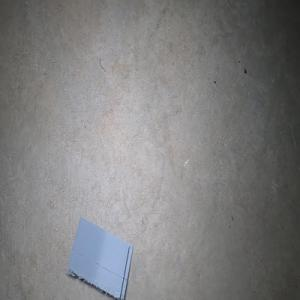PlasticPart: (65, 216, 133, 300)
